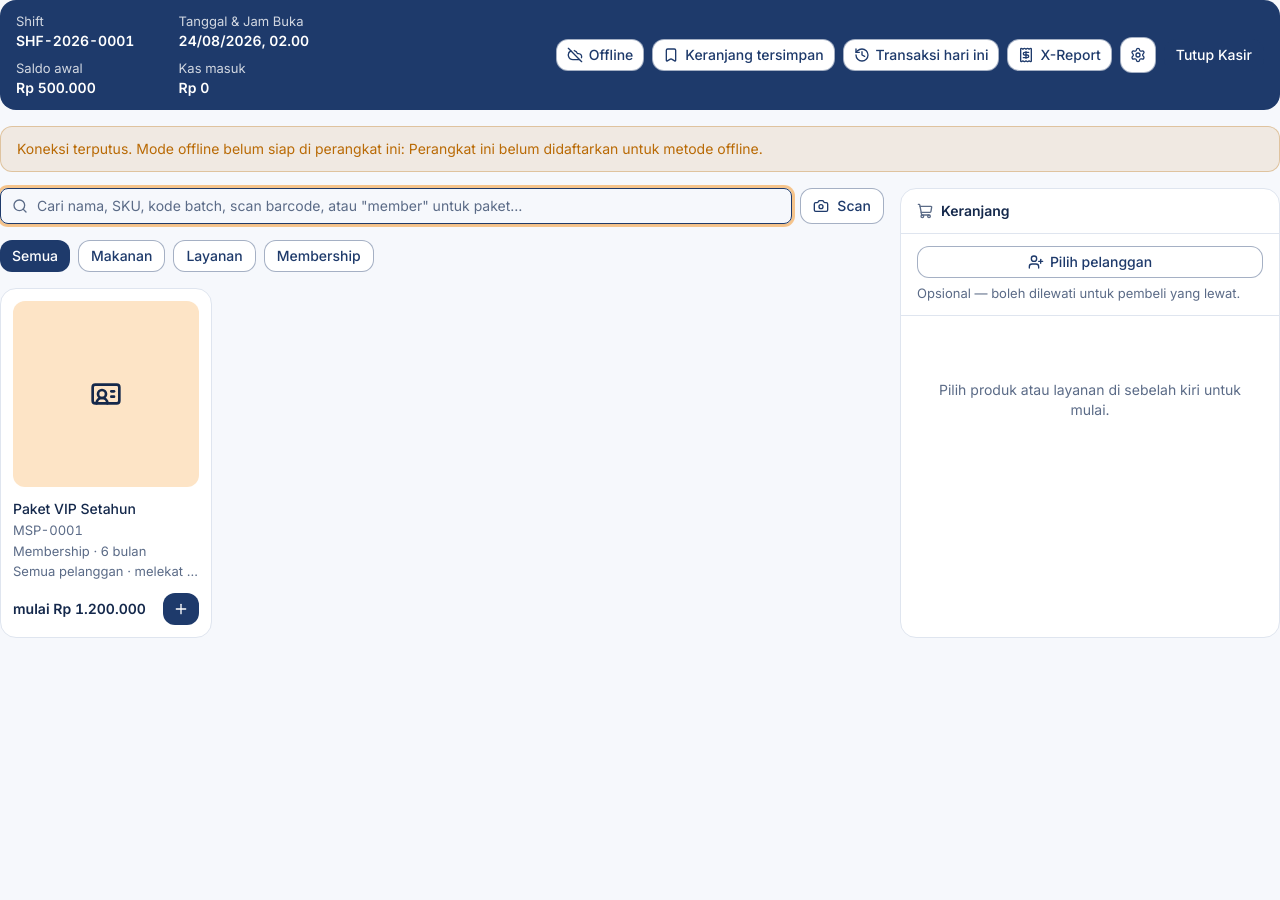
Scenario: who may buy › prices each animal from the server and disables the one that may not buy, with why
Click the button "Pilih pelanggan" at [1090, 262], box [917,246,1263,278]
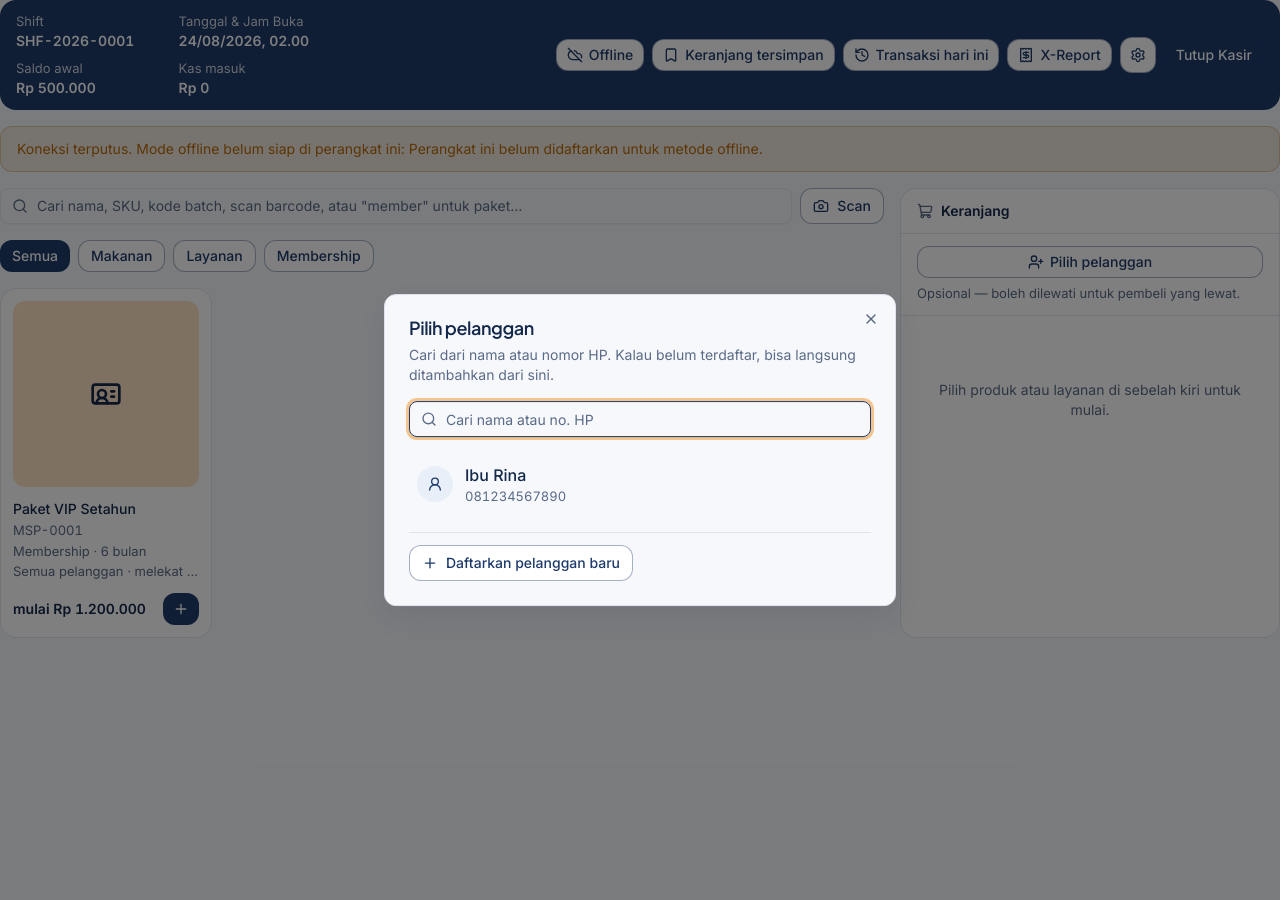
Click the text "Ibu Rina" at [496, 475], box [465,465,526,485]
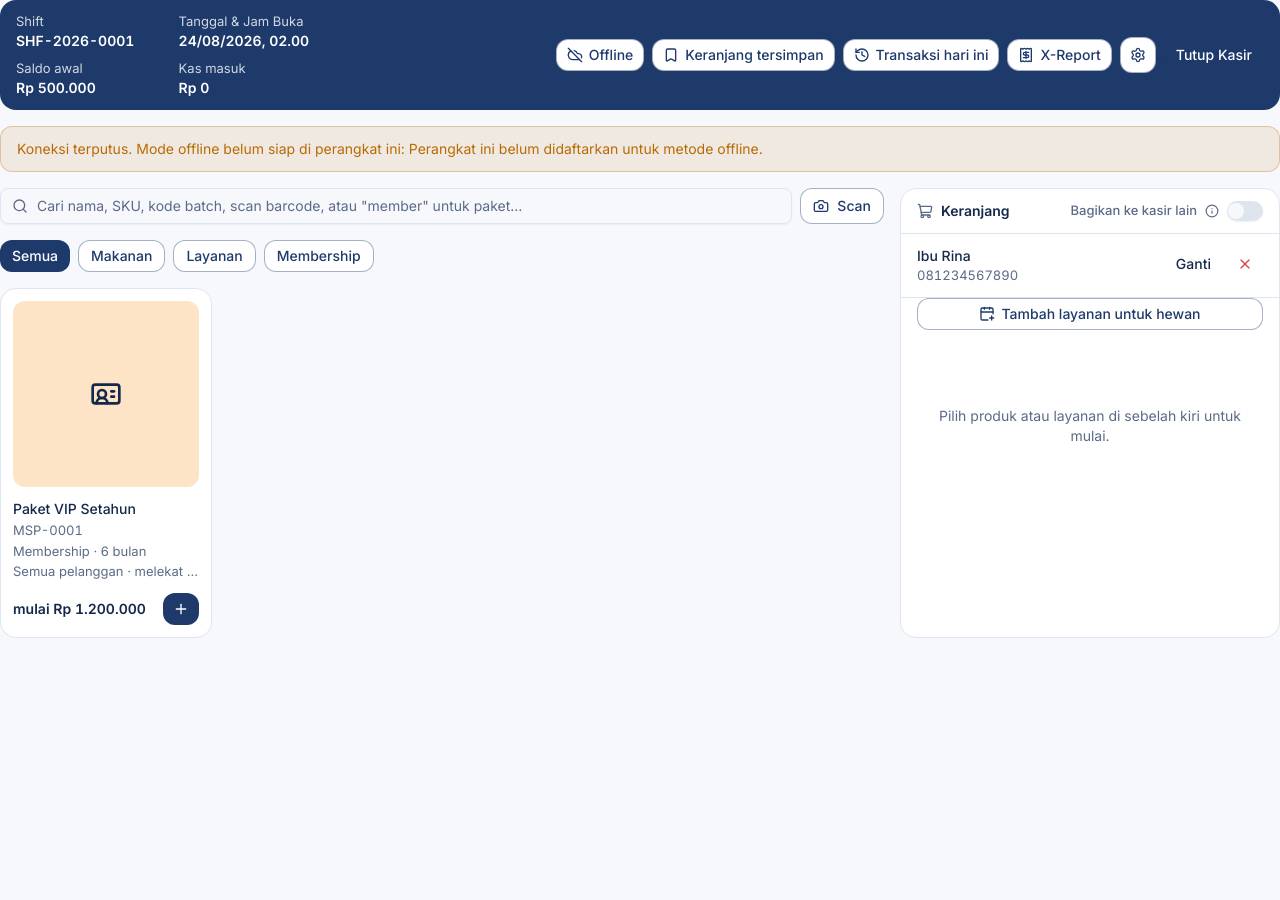
Click the button named "tambah paket vip setahun" at [181, 609], box [163,593,199,625]
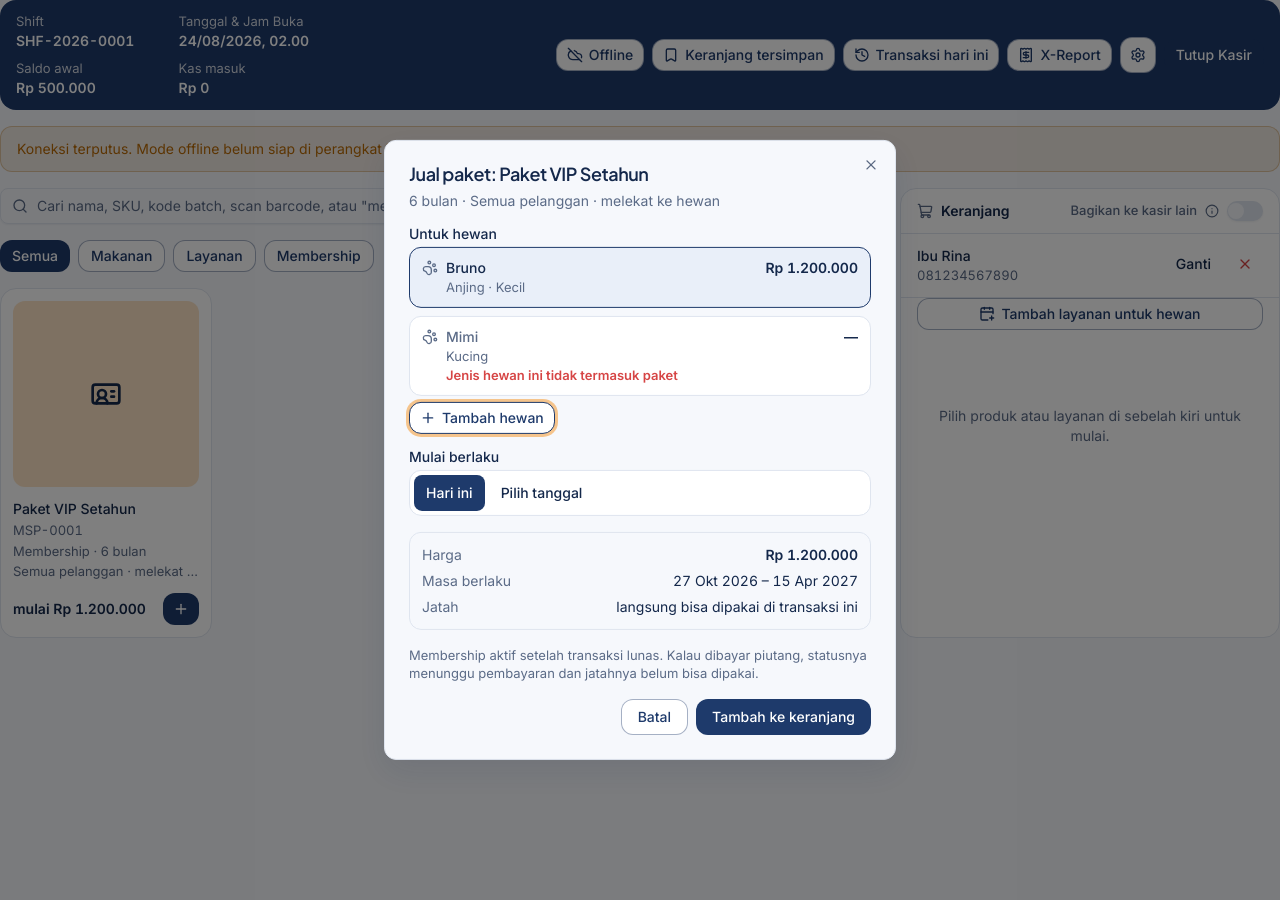
Expected: the heading "Jual paket: Paket VIP Setahun" is shown, [409,162,648,185]
Expected: the radio button labelled "Bruno Anjing · Kecil Rp 1.200.000" is shown, [409,247,871,308]
Expected: the radio button labelled "Bruno Anjing · Kecil Rp 1.200.000" is enabled, [409,247,871,308]
